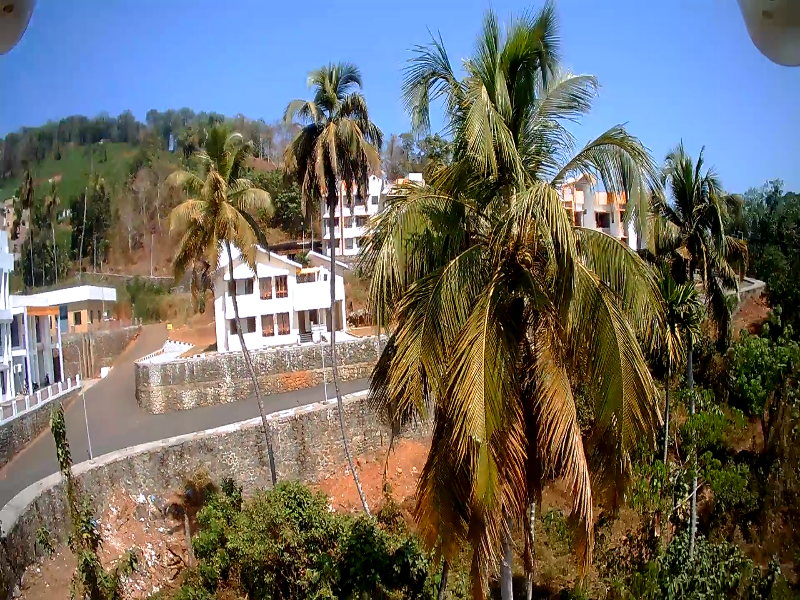coconut: (518, 249, 530, 265)
